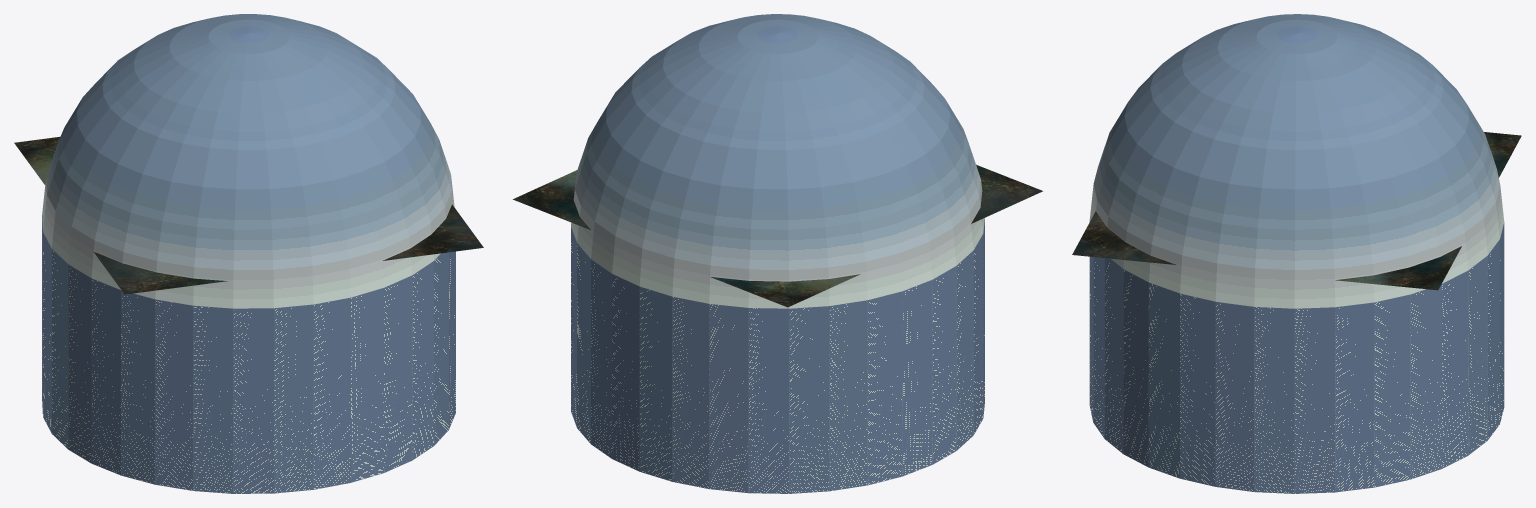
The model's file is R_F_Combat.fbx.
3 renders of one model, left to right at view 1: azimuth 30°, elevation 25°; view 2: azimuth 150°, elevation 25°; view 3: azimuth 270°, elevation 25°, orthographic.
Visible parts, largest first — view 1: Sky01, R_WaterPlane02; view 2: Sky01, R_WaterPlane02; view 3: Sky01, R_WaterPlane02.
Part boxes in pixels (left/top/right/bottom): Sky01: left=42, top=14, right=455, bottom=493; R_WaterPlane02: left=14, top=137, right=483, bottom=294; Sky01: left=571, top=14, right=984, bottom=493; R_WaterPlane02: left=513, top=164, right=1042, bottom=307; Sky01: left=1089, top=14, right=1504, bottom=493; R_WaterPlane02: left=1072, top=132, right=1521, bottom=290.
Bounding box in the file's own units: 120 × 110 × 120.
